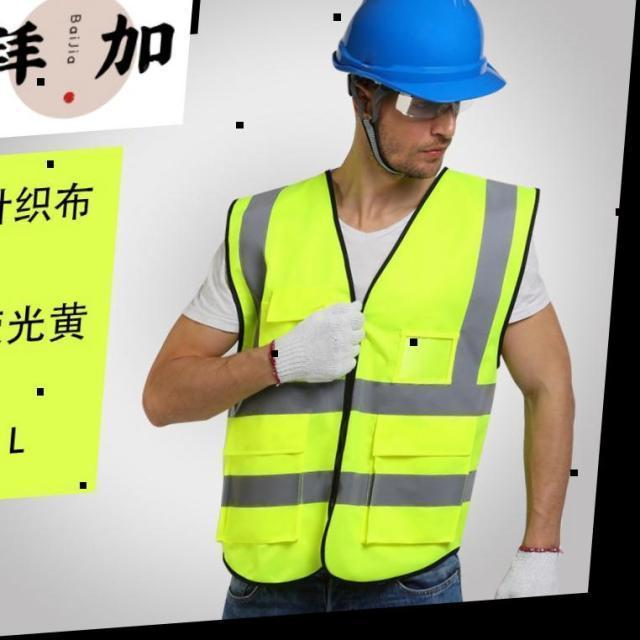safety_helmet: (214, 169, 535, 587)
